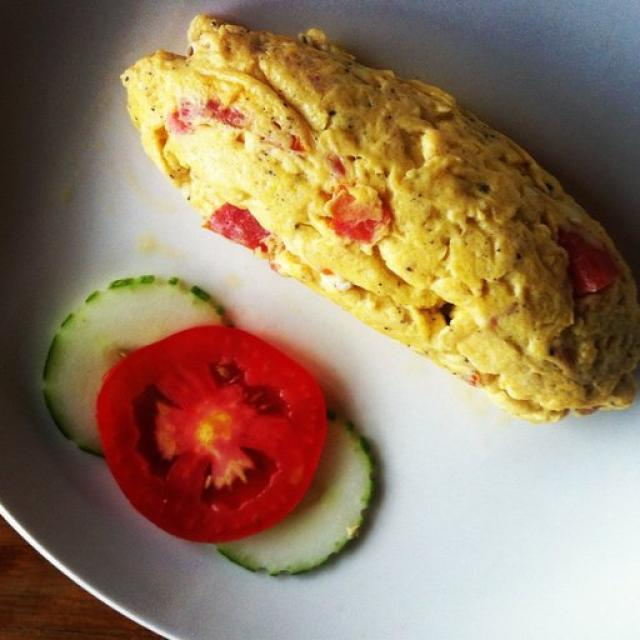telur_ayam_dadar: (117, 12, 638, 426)
